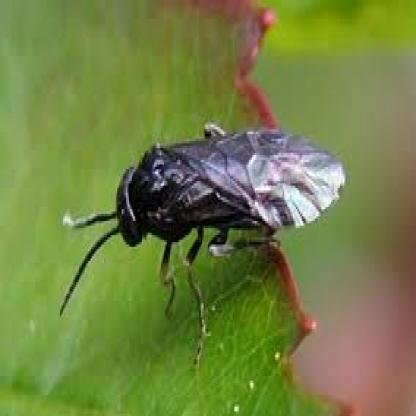sawfly: (54, 111, 348, 375)
